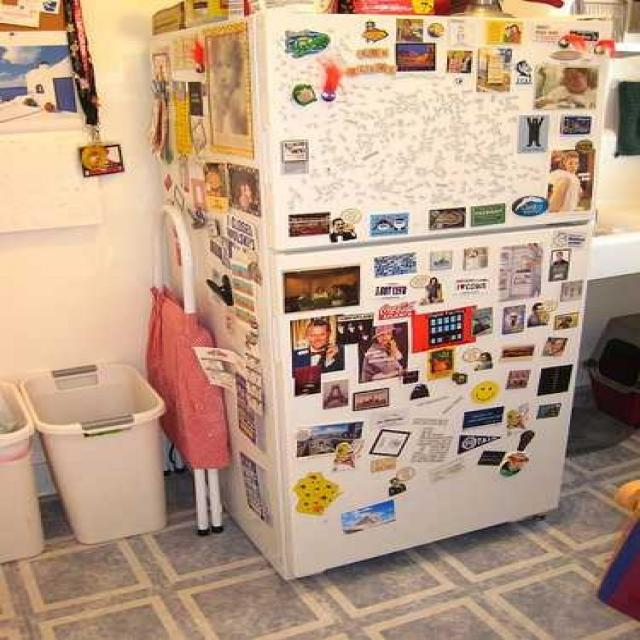refrigerator: (249, 11, 598, 578)
